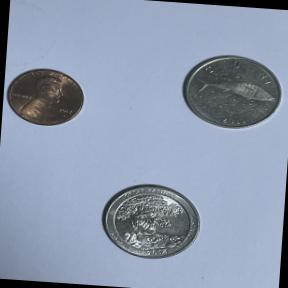coin: (170, 47, 288, 138), (93, 175, 211, 266), (0, 60, 96, 134)
